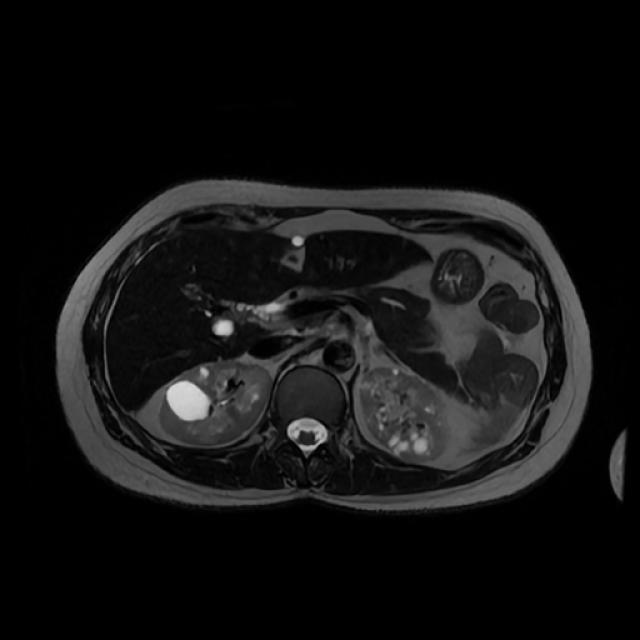sag: (160, 360, 269, 443)
sol: (365, 366, 449, 461)
